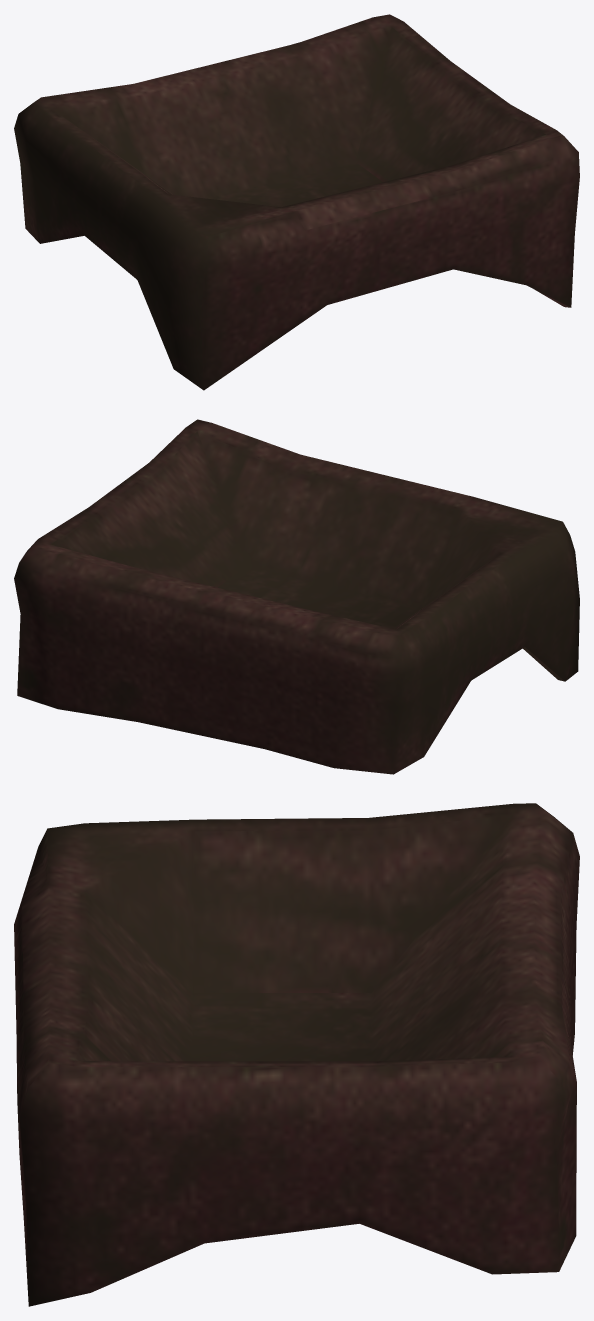
Rendered from Small box cloth.fbx.
3 renders of one model, top to bottom at view 1: azimuth 30°, elevation 25°; view 2: azimuth 150°, elevation 25°; view 3: azimuth 270°, elevation 25°, orthographic. The views are drawn at different scales.
Visible parts, largest first — view 1: Plane.002; view 2: Plane.002; view 3: Plane.002.
Boxes of the visible parts, <box> form: Plane.002: <box>14,14,579,390</box>; Plane.002: <box>14,419,579,774</box>; Plane.002: <box>14,803,579,1306</box>.
Bounding box in the file's own units: 111 × 44.62 × 93.53.
